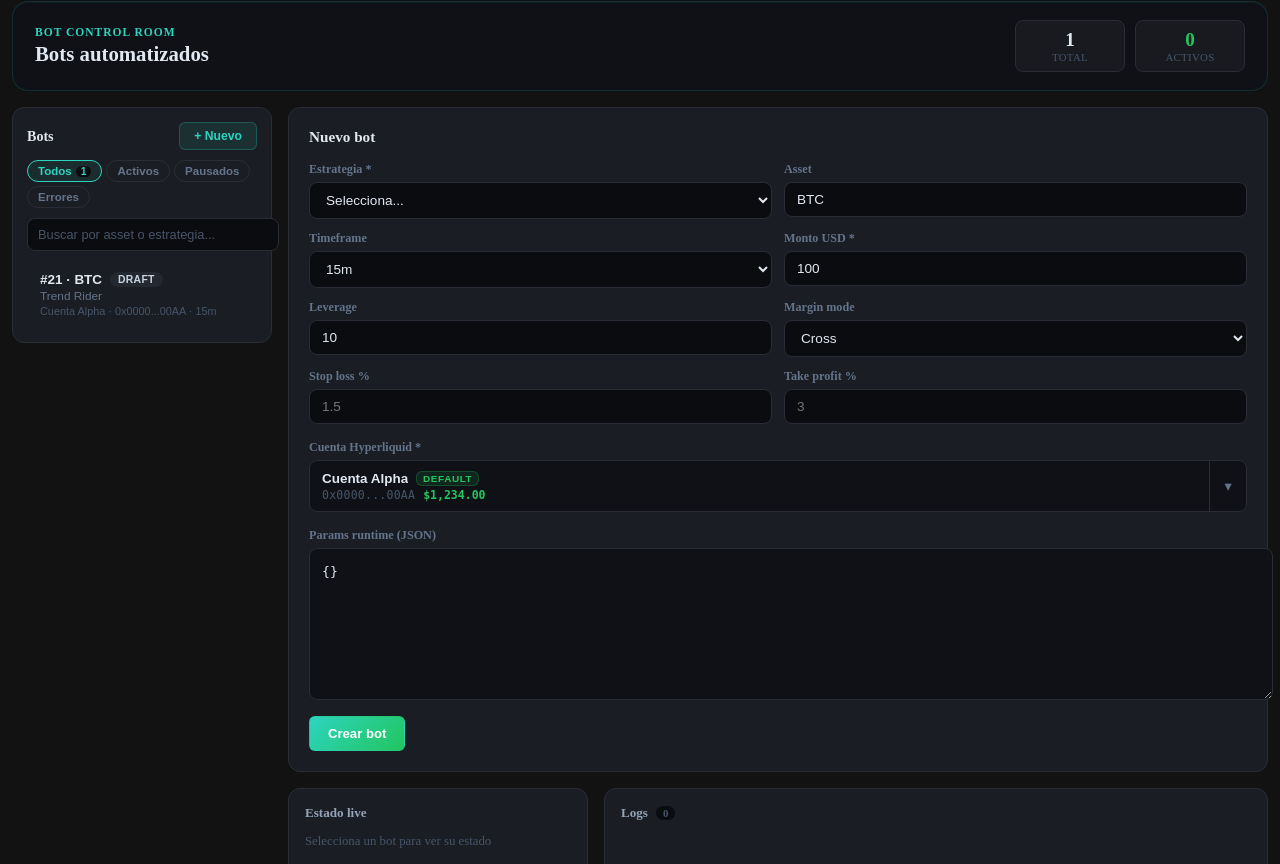
Test case: BotsPage › permite filtrar el historial para ver solo errores
The width and height of the screenshot is (1280, 864).
Expected: the text "#21 · BTC" is shown, top-left (40, 272), bottom-right (102, 287)
Click the button "#21 · BTC". click: [142, 294]
box: top-left (27, 261), bottom-right (257, 328)
(page scrolled)
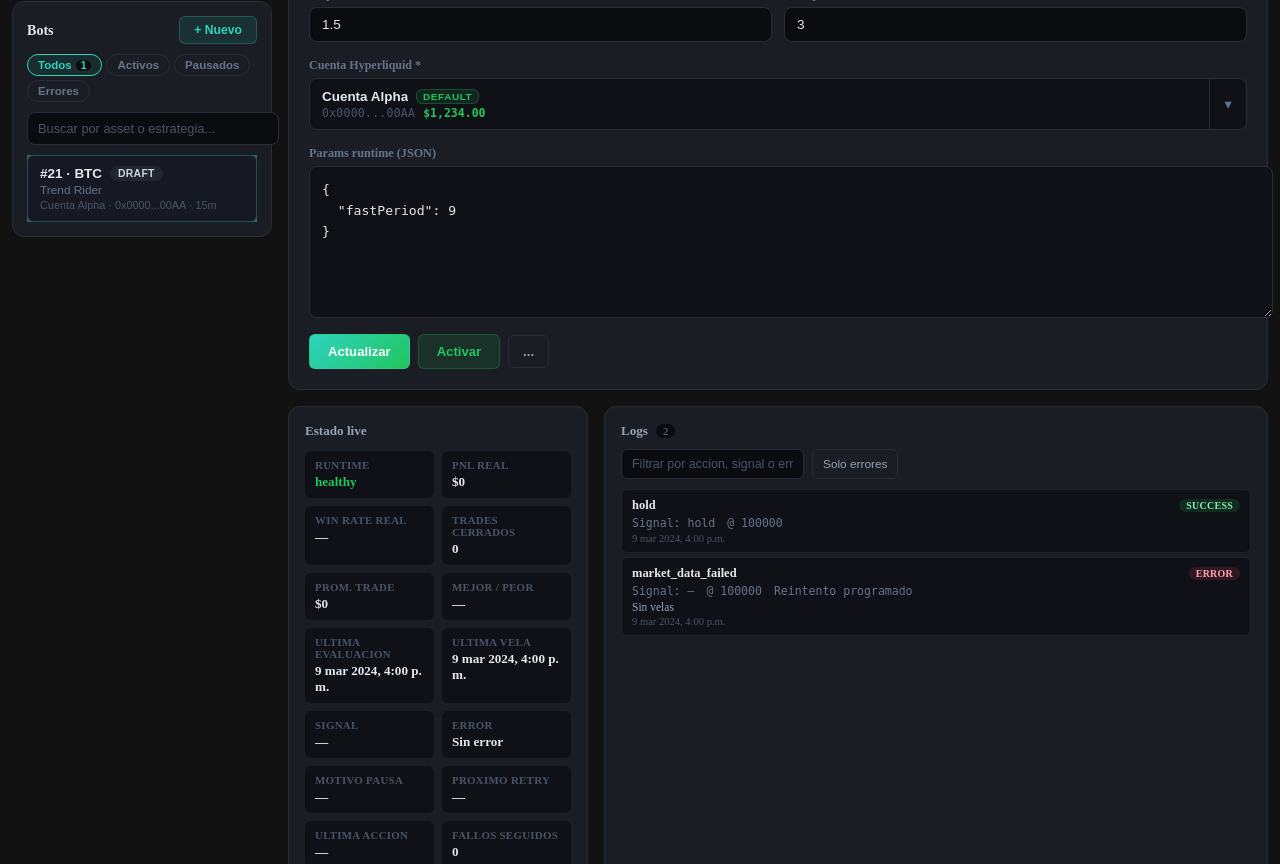
Expected: the text "market_data_failed" is shown, top-left (632, 566), bottom-right (737, 581)
Click the button "Solo errores". click: [855, 464]
box: top-left (812, 449), bottom-right (898, 479)
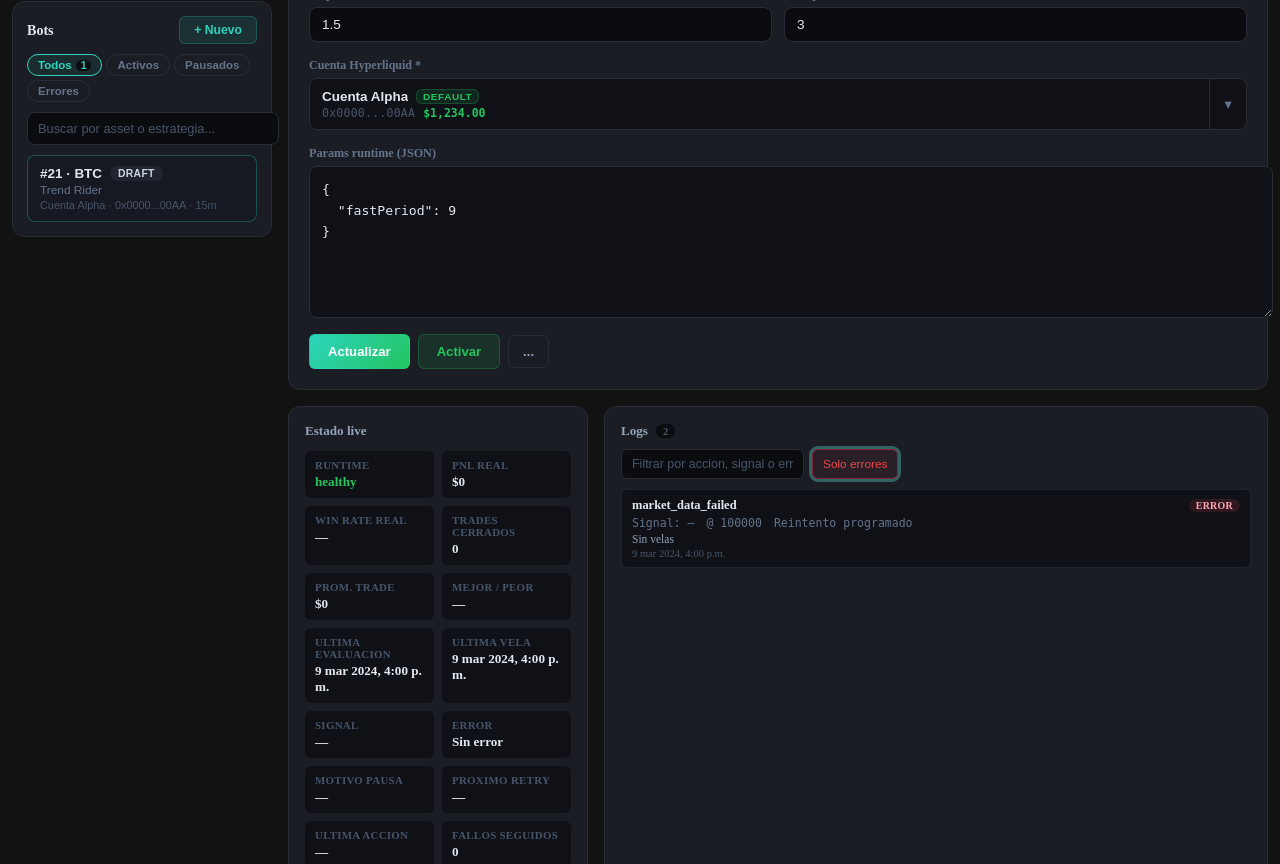
Expected: the text "market_data_failed" is shown, top-left (632, 498), bottom-right (737, 513)
Expected: the text "Sin velas" is shown, top-left (632, 533), bottom-right (674, 545)
Expected: the text "hold" is gone
